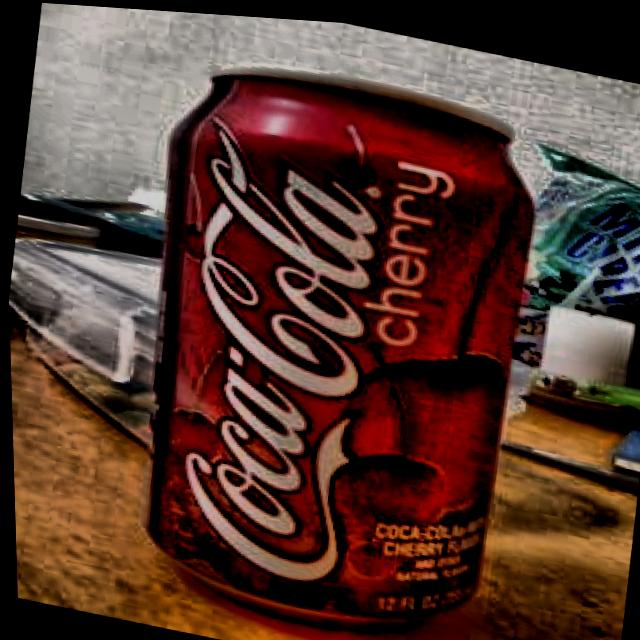Cans: (64, 16, 619, 640)
